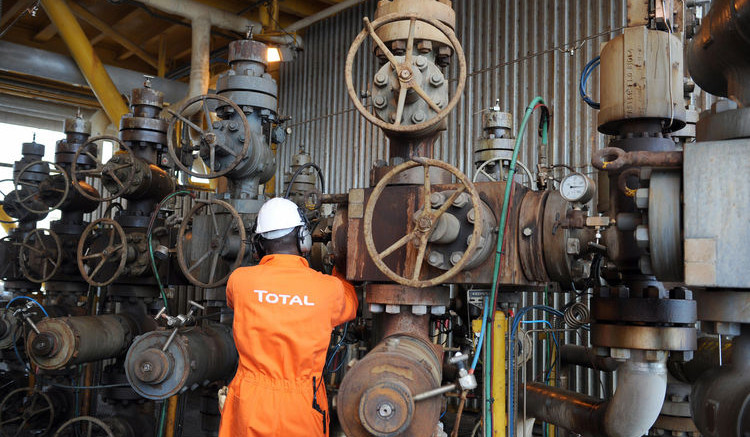epi: (224, 191, 360, 437)
